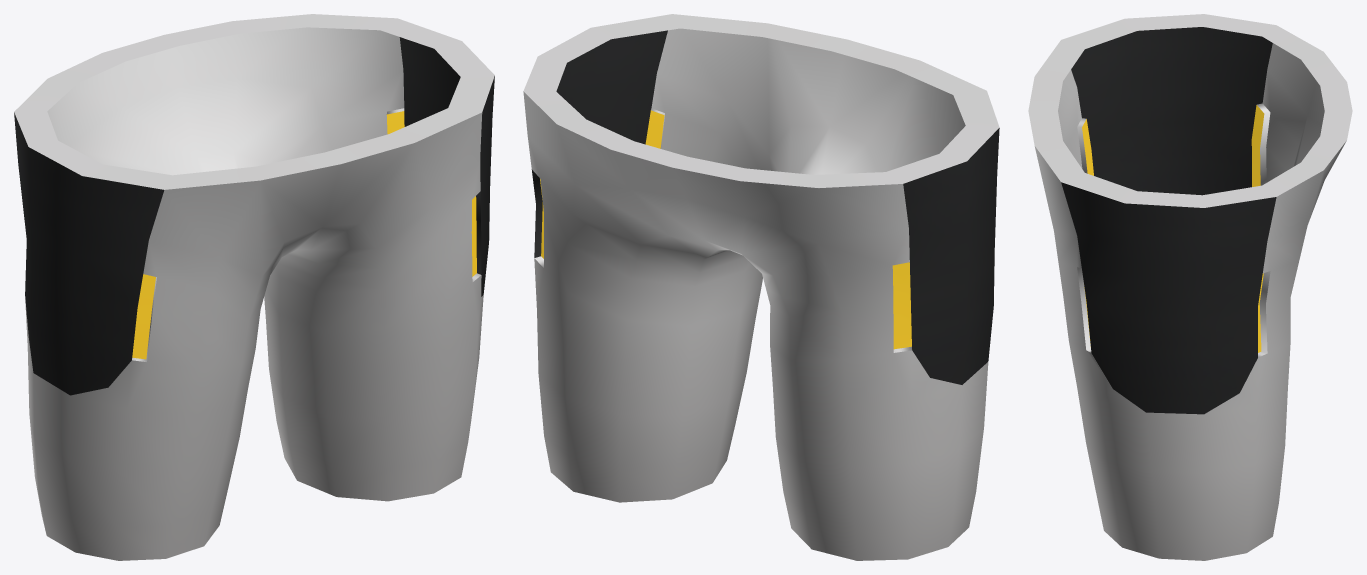
The model's file is Costume_3_04.glb.
3 renders of one model, left to right at view 1: azimuth 30°, elevation 25°; view 2: azimuth 150°, elevation 25°; view 3: azimuth 270°, elevation 25°, orthographic. The views are drawn at different scales.
Visible parts, largest first — view 1: Costume_3_04; view 2: Costume_3_04; view 3: Costume_3_04.
Part boxes in pixels (bbox=[...]): Costume_3_04: bbox=[14, 14, 494, 560]; Costume_3_04: bbox=[523, 14, 999, 560]; Costume_3_04: bbox=[1028, 14, 1352, 560].
Bounding box in the file's own units: 0.2402 × 0.2086 × 0.1696.
Materials: 2 (2 with a texture image).
